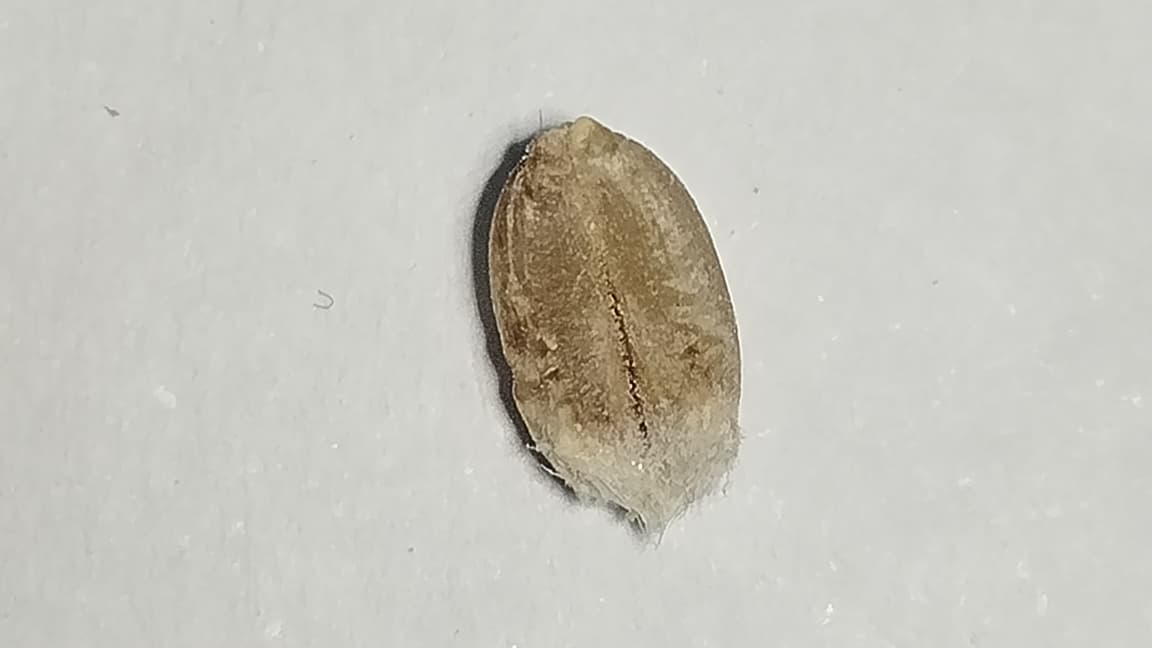staindamage: (490, 117, 740, 531)
